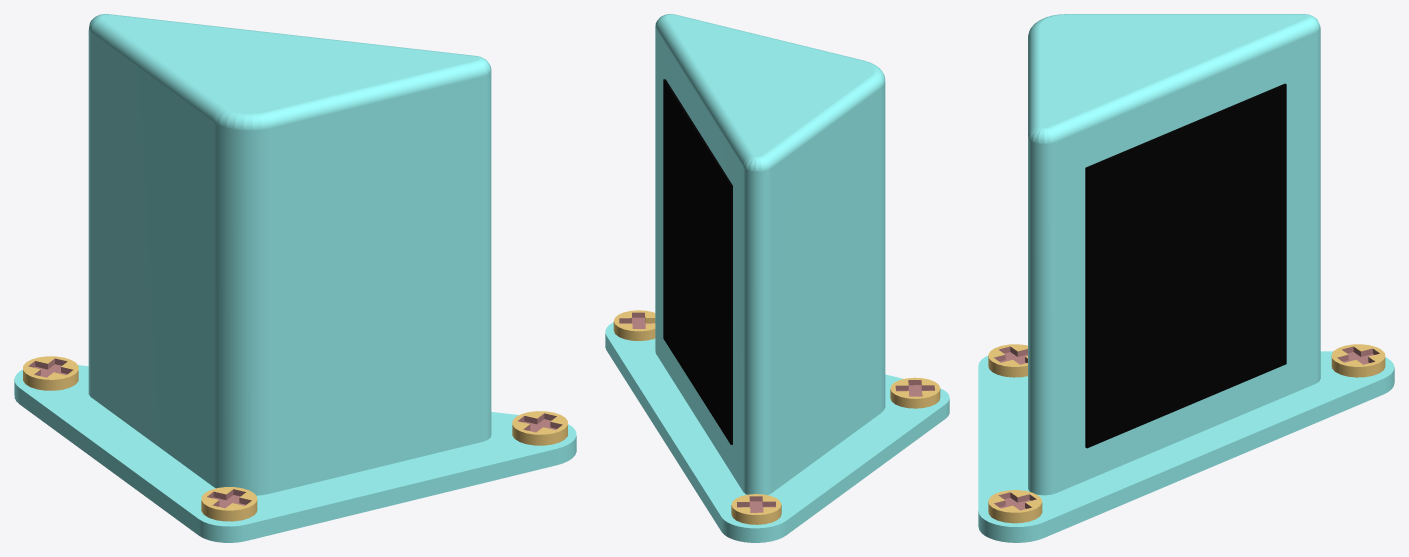
Rendered from LockMirror.fbx.
The picture shows the model from 3 angles, left to right: view 1: azimuth 30°, elevation 25°; view 2: azimuth 150°, elevation 25°; view 3: azimuth 270°, elevation 25°; orthographic projection. The views are drawn at different scales.
Visible parts, largest first — view 1: LockMirrorBody, LockMirrorBase, Screw1, Screw, Screw2; view 2: LockMirrorBody, LockMirrorReflect, LockMirrorBase, Screw1, Screw2, Screw; view 3: LockMirrorBody, LockMirrorReflect, LockMirrorBase, Screw2, Screw, Screw1.
Part boxes in pixels (left/top/right/bottom): LockMirrorBody: left=88, top=14, right=491, bottom=495; LockMirrorBase: left=14, top=365, right=576, bottom=542; Screw1: left=201, top=487, right=257, bottom=521; Screw: left=512, top=411, right=567, bottom=445; Screw2: left=23, top=356, right=78, bottom=390; LockMirrorBody: left=655, top=14, right=885, bottom=495; LockMirrorReflect: left=663, top=79, right=732, bottom=444; LockMirrorBase: left=605, top=322, right=949, bottom=542; Screw1: left=890, top=377, right=940, bottom=408; Screw2: left=731, top=494, right=781, bottom=524; Screw: left=613, top=310, right=655, bottom=340; LockMirrorBody: left=1028, top=14, right=1320, bottom=495; LockMirrorReflect: left=1085, top=83, right=1286, bottom=448; LockMirrorBase: left=978, top=351, right=1394, bottom=542; Screw2: left=1331, top=344, right=1385, bottom=377; Screw: left=988, top=490, right=1042, bottom=523; Screw1: left=988, top=344, right=1027, bottom=377.
Bounding box in the file's own units: 0.9965 × 0.9991 × 0.9965.
